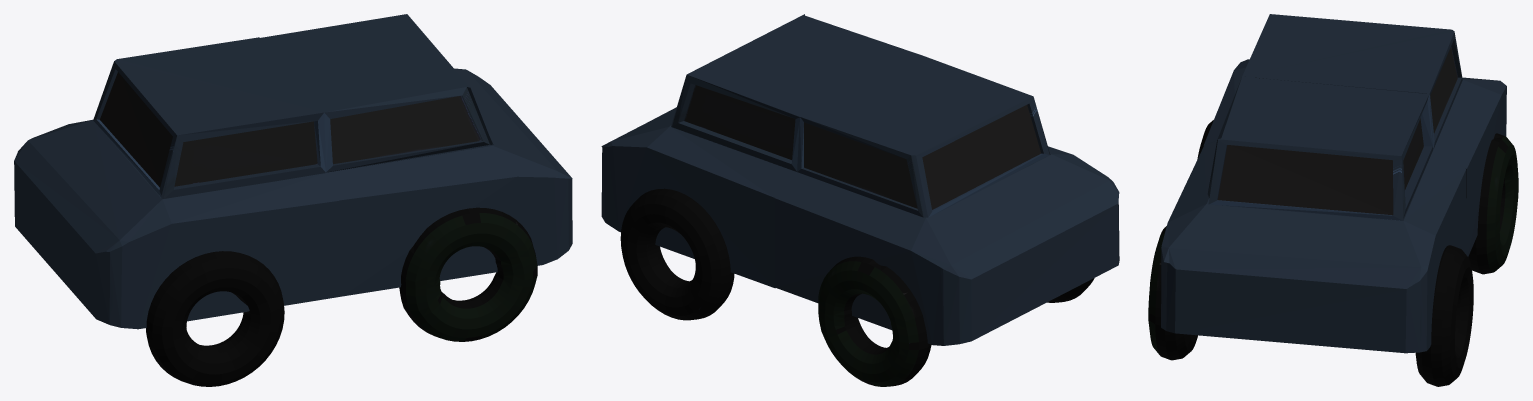
Rendered from Uno2.dae.
3 views of the same model, side by side, from view 1: azimuth 30°, elevation 25°; view 2: azimuth 150°, elevation 25°; view 3: azimuth 270°, elevation 25° (orthographic). The views are drawn at different scales.
Parts seen in each view (by area): view 1: Wheel 1; view 2: Wheel 1; view 3: Wheel 1.
Part boxes in pixels (left/top/right/bottom): Wheel 1: left=14, top=14, right=572, bottom=386; Wheel 1: left=601, top=14, right=1119, bottom=386; Wheel 1: left=1148, top=14, right=1518, bottom=386.
Bounding box in the file's own units: 5.58 × 3.9 × 2.71.
1 material, 1 textured.
